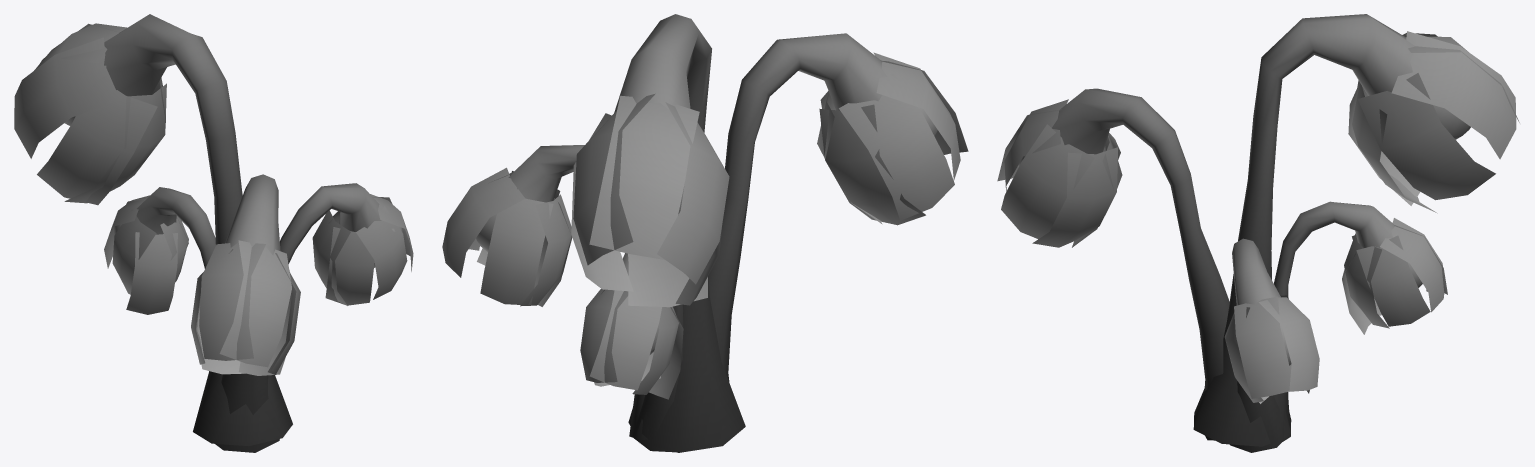
Rendered from BerryDead_MESH_01.fbx.
3 renders of one model, left to right at view 1: azimuth 30°, elevation 25°; view 2: azimuth 150°, elevation 25°; view 3: azimuth 270°, elevation 25°, orthographic. The views are drawn at different scales.
Parts seen in each view (by area): view 1: BerryDead_MESH_01; view 2: BerryDead_MESH_01; view 3: BerryDead_MESH_01.
Part boxes in pixels (x1=…): BerryDead_MESH_01: x1=14, y1=14, x2=413, y2=452; BerryDead_MESH_01: x1=442, y1=14, x2=968, y2=452; BerryDead_MESH_01: x1=997, y1=14, x2=1519, y2=452.
Size of the model in its own units: 75.29 by 86.55 by 102.
